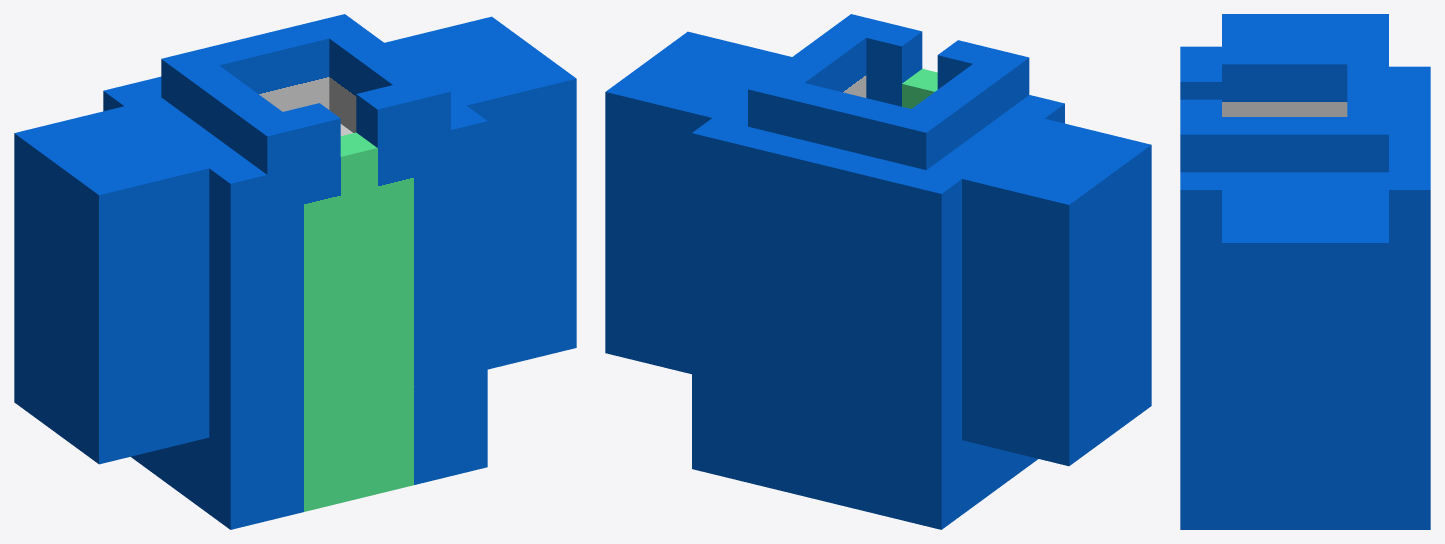
File: Matrix_26.fbx
3 views of the same model, side by side, from view 1: azimuth 30°, elevation 25°; view 2: azimuth 150°, elevation 25°; view 3: azimuth 270°, elevation 25° (orthographic). The views are drawn at different scales.
Visible parts, largest first — view 1: Matrix_26; view 2: Matrix_26; view 3: Matrix_26.
Boxes of the visible parts, x1=… form: Matrix_26: x1=14, y1=14, x2=576, y2=529; Matrix_26: x1=605, y1=14, x2=1151, y2=529; Matrix_26: x1=1180, y1=14, x2=1430, y2=529.
Size of the model in its own units: 13 by 10 by 6.
Materials: 1 (1 with a texture image).
